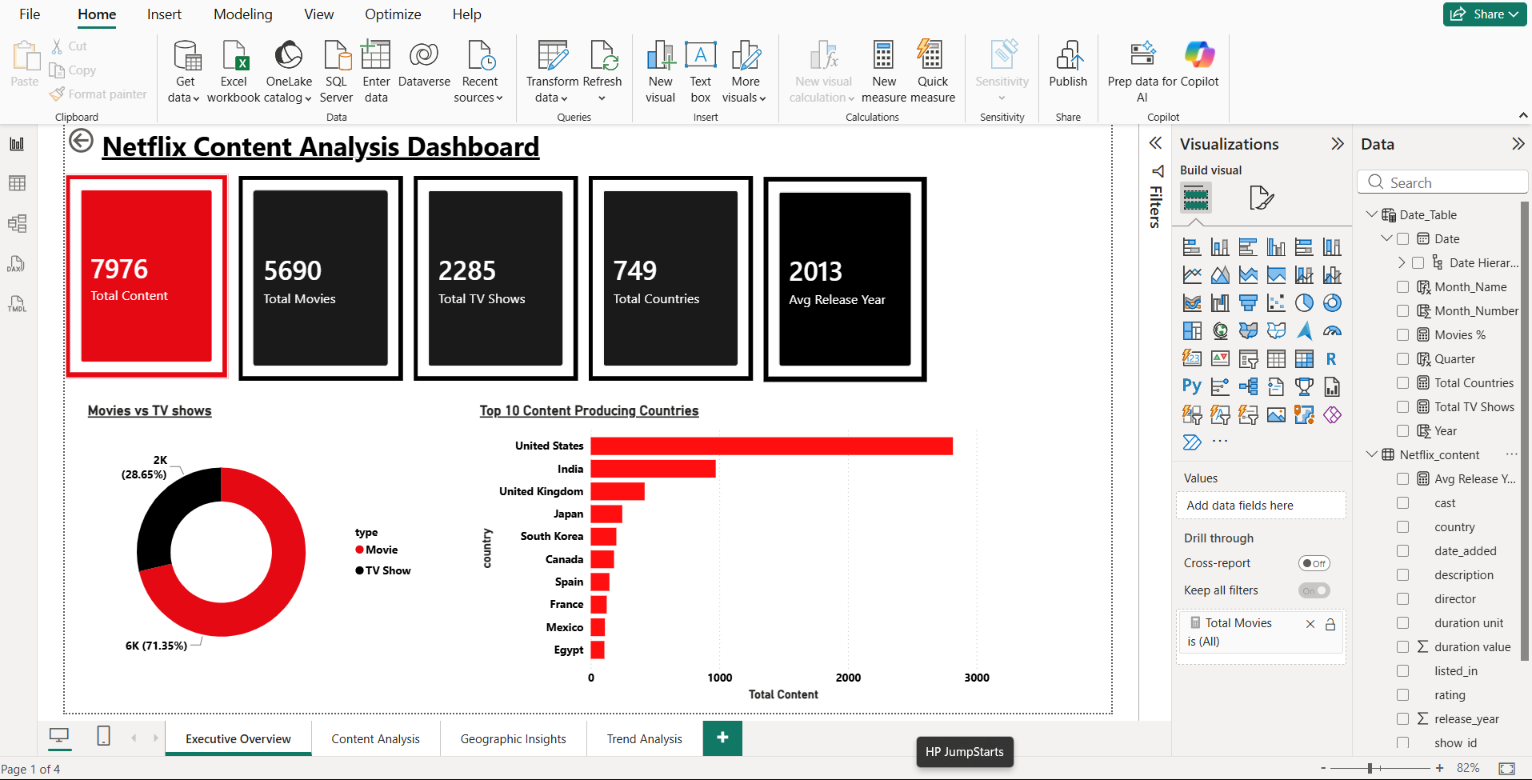

The page's visual inventory and layout, read from the dashboard file:
{"tool":"powerbi","page":{"name":"Executive Overview","canvas":[1280,720],"ordinal":0},"visuals":[{"type":"actionButton","box":[0,0,100,40],"z":0},{"type":"cardVisual","title":"Total content ","fields":{"Data":["Netflix_content.Total Content"]},"box":[0,61.7,200,250],"z":1000},{"type":"cardVisual","fields":{"Data":["Netflix_content.Total Movies"]},"box":[212.8,63.6,200.5,250.7],"z":2000},{"type":"cardVisual","fields":{"Data":["Date_Table.Total TV Shows"]},"box":[426.8,63.6,200.5,250.7],"z":3000},{"type":"cardVisual","fields":{"Data":["Date_Table.Total Countries"]},"box":[640.8,63.6,200.5,250.7],"z":4000},{"type":"cardVisual","fields":{"Data":["Netflix_content.average realease year"]},"box":[854.8,64.8,199.3,250.7],"z":5000},{"type":"donutChart","title":"Movies vs TV shows","fields":{"Category":["Netflix_content.type"],"Y":["Netflix_content.Total Content"]},"box":[23.2,339.9,414.5,348.5],"z":6000},{"type":"barChart","title":"Top 10 Content Producing Countries ","fields":{"Category":["Netflix_content.country"],"Y":["Netflix_content.Total Content"]},"box":[502.6,339.9,633.4,370.5],"z":7000},{"type":"textbox","box":[38.4,0,550.3,56.3],"z":8000}]}

Visuals, with their boxes on the page's 1280x720 design canvas (x1, y1, x2, y2). These are canvas units, not pixel positions in the 1532x780 screenshot, which may show the page scaled, cropped or inside an application window:
actionButton: (x1=0, y1=0, x2=100, y2=40)
"Total content " cardVisual: (x1=0, y1=62, x2=200, y2=312)
cardVisual - Netflix_content.Total Movies: (x1=213, y1=64, x2=413, y2=314)
cardVisual - Date_Table.Total TV Shows: (x1=427, y1=64, x2=627, y2=314)
cardVisual - Date_Table.Total Countries: (x1=641, y1=64, x2=841, y2=314)
cardVisual - Netflix_content.average realease year: (x1=855, y1=65, x2=1054, y2=316)
"Movies vs TV shows" donutChart: (x1=23, y1=340, x2=438, y2=688)
"Top 10 Content Producing Countries " barChart: (x1=503, y1=340, x2=1136, y2=710)
textbox: (x1=38, y1=0, x2=589, y2=56)
